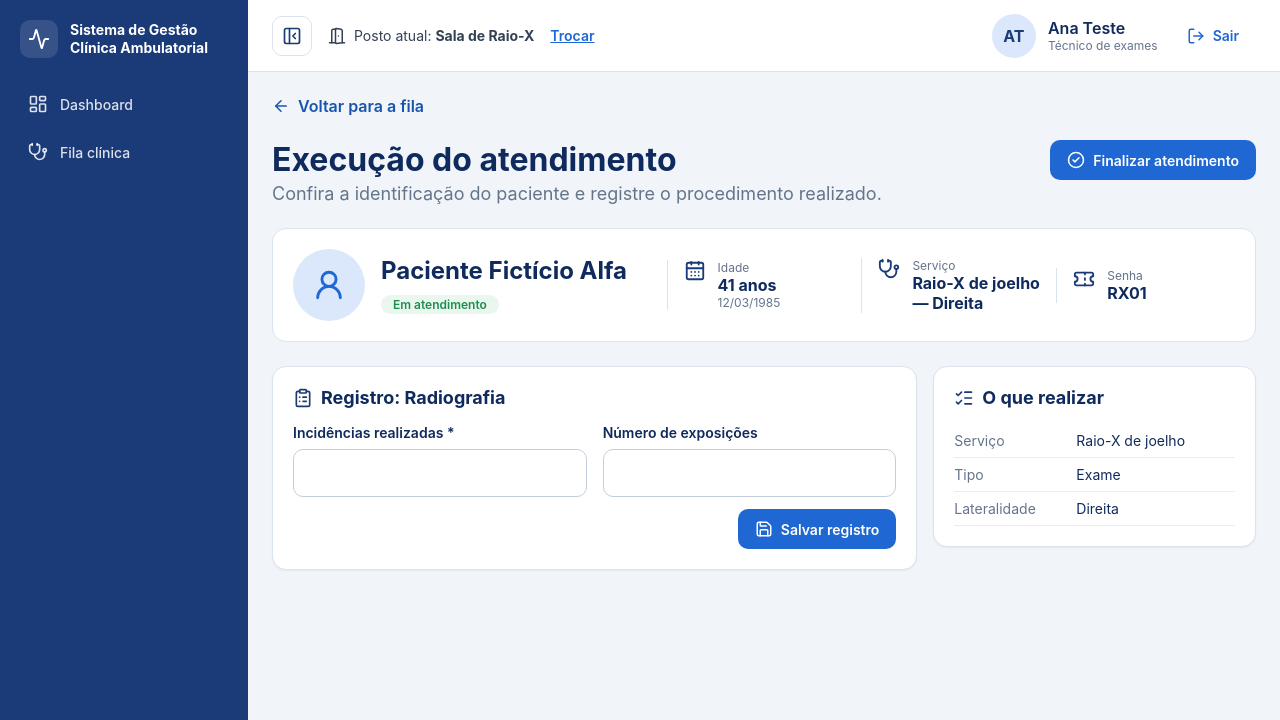
Scenario: EncounterPage › exibe erros de validação por campo
This screenshot has width=1280, height=720.
Click the button "Salvar registro". click: (817, 529)
box: [738,509,896,549]
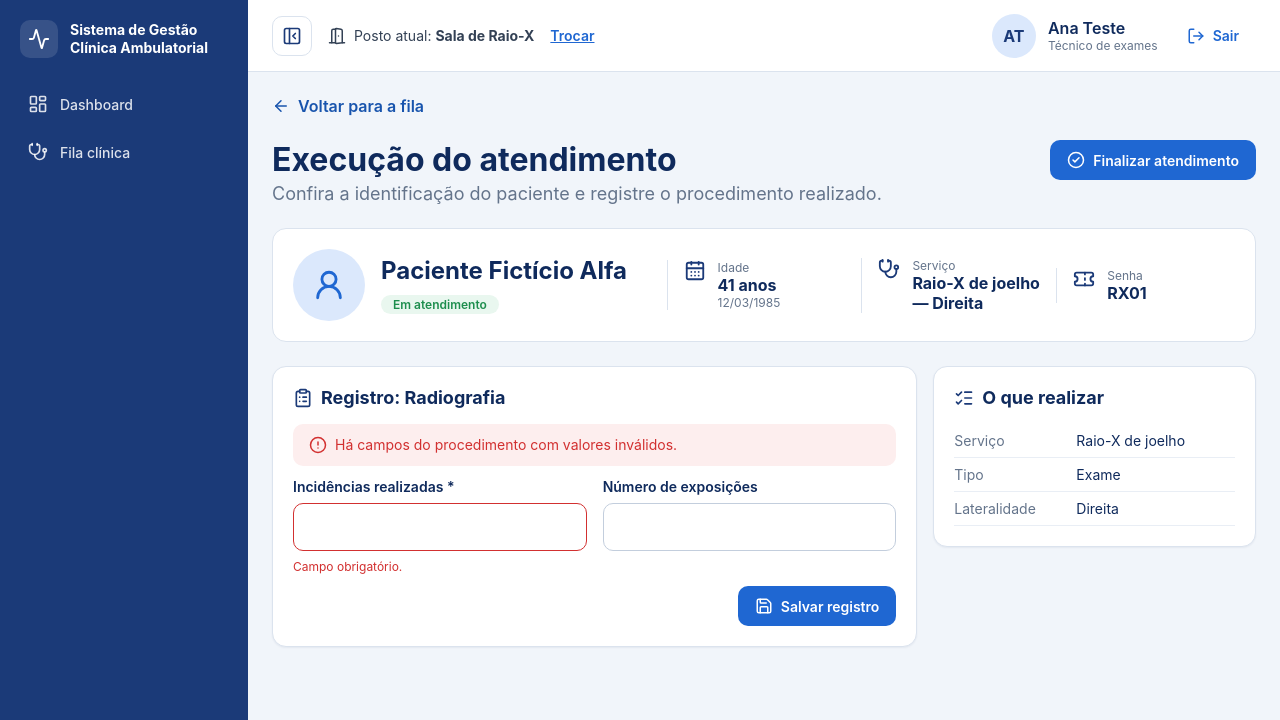
Now the text "Campo obrigatório." is shown, box [293,559,402,574]
